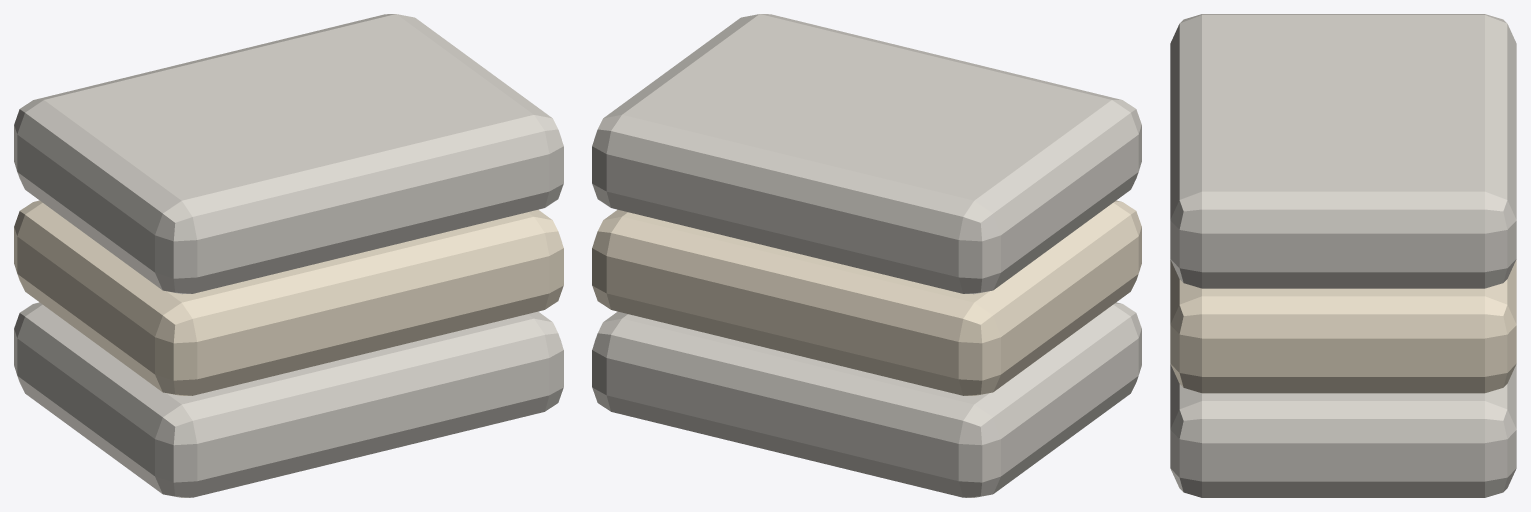
The model's file is hh_pillow_stack.glb.
3 views of the same model, side by side, from view 1: azimuth 30°, elevation 25°; view 2: azimuth 150°, elevation 25°; view 3: azimuth 270°, elevation 25° (orthographic). The views are drawn at different scales.
Parts seen in each view (by area): view 1: pillow.002, pillow, pillow.001; view 2: pillow.002, pillow, pillow.001; view 3: pillow.002, pillow.001, pillow.
Part boxes in pixels (bbox=[...]): pillow.002: bbox=[14, 14, 563, 294]; pillow: bbox=[14, 302, 563, 497]; pillow.001: bbox=[14, 200, 563, 395]; pillow.002: bbox=[592, 14, 1141, 294]; pillow: bbox=[592, 302, 1141, 497]; pillow.001: bbox=[592, 200, 1141, 395]; pillow.002: bbox=[1170, 14, 1516, 288]; pillow.001: bbox=[1170, 259, 1516, 393]; pillow: bbox=[1170, 364, 1516, 497].
Size of the model in its own units: 0.5 by 0.35 by 0.36.
